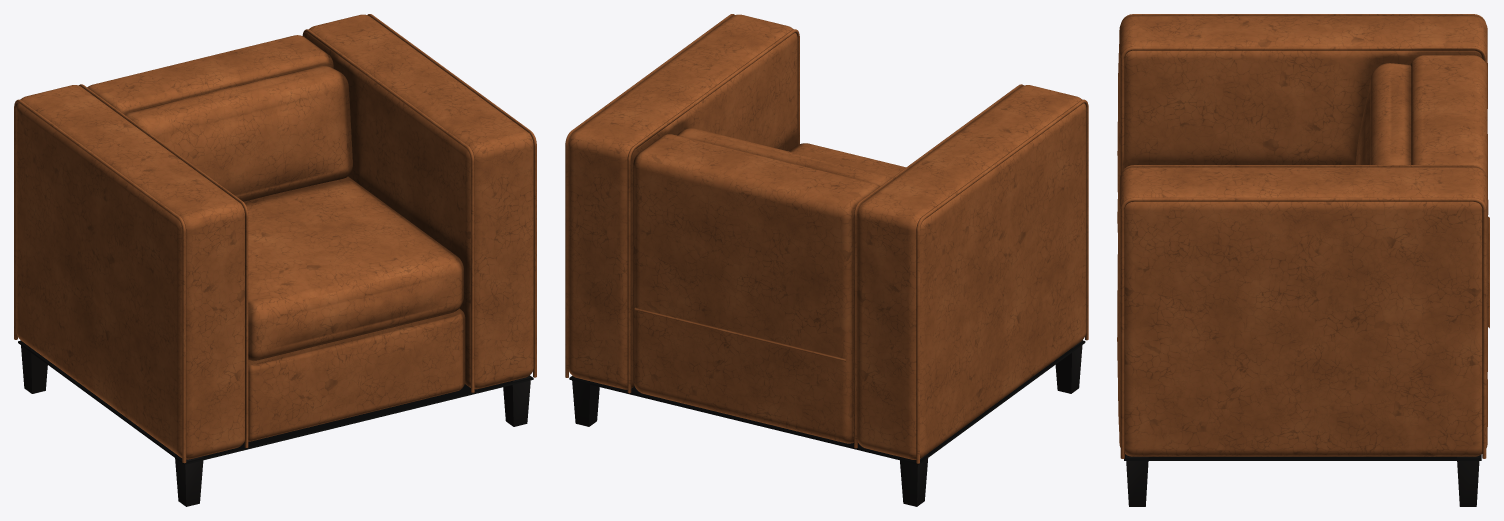
The model's file is poltrona-couro.glb.
3 views of the same model, side by side, from view 1: azimuth 30°, elevation 25°; view 2: azimuth 150°, elevation 25°; view 3: azimuth 270°, elevation 25° (orthographic). The views are drawn at different scales.
Parts seen in each view (by area): view 1: Braco esquerdo, Braco direito, Almofada do assento, Almofada do encosto, Base do assento, Vivo (×4), Encosto, Pes, Forro inferior; view 2: Braco esquerdo, Encosto, Braco direito, Vivo (×5), Pes, Almofada do encosto, Forro inferior, Almofada do assento; view 3: Braco direito, Braco esquerdo, Vivo (×4), Encosto, Almofada do encosto, Pes, Forro inferior.
Boxes of the visible parts, box(x1,y1,x2,y2) form: Braco esquerdo: box(16, 85, 244, 459); Braco direito: box(305, 14, 533, 389); Almofada do assento: box(243, 176, 463, 360); Almofada do encosto: box(125, 65, 352, 201); Base do assento: box(248, 308, 465, 441); Vivo (×4): box(14, 14, 536, 463); Encosto: box(87, 35, 333, 114); Pes: box(20, 340, 530, 506); Forro inferior: box(18, 340, 533, 464); Braco esquerdo: box(857, 85, 1086, 459); Encosto: box(633, 134, 879, 443); Braco direito: box(568, 14, 797, 389); Vivo (×5): box(565, 14, 1088, 463); Pes: box(571, 340, 1082, 506); Almofada do encosto: box(677, 128, 891, 186); Forro inferior: box(569, 340, 1085, 464); Almofada do assento: box(789, 143, 905, 177); Braco direito: box(1117, 167, 1487, 456); Braco esquerdo: box(1117, 16, 1487, 236); Vivo (×4): box(1120, 14, 1486, 458); Encosto: box(1410, 55, 1488, 371); Almofada do encosto: box(1356, 63, 1411, 164); Pes: box(1126, 455, 1479, 506); Forro inferior: box(1124, 454, 1481, 460).
Size of the model in its own units: 0.9 by 0.7 by 0.75.
4 materials, 1 textured.
